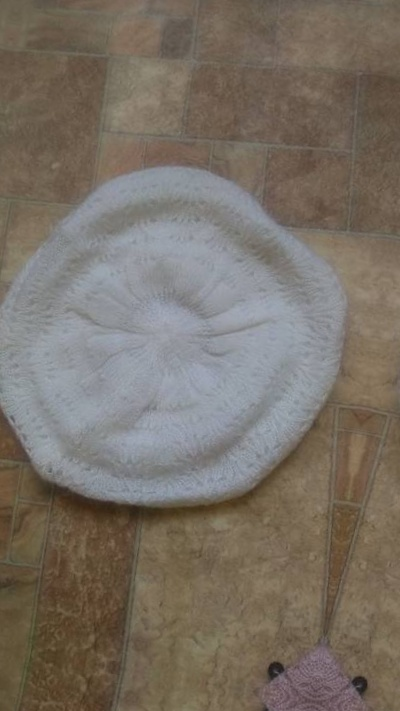Hat: (0, 100, 390, 564), (353, 169, 400, 632)
